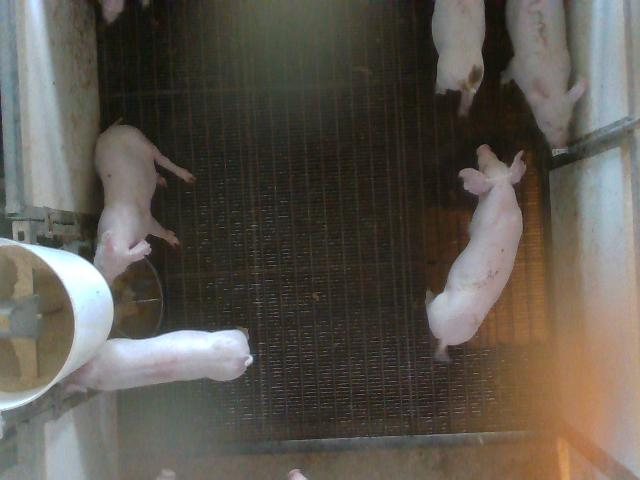pig-3: (501, 0, 586, 149)
